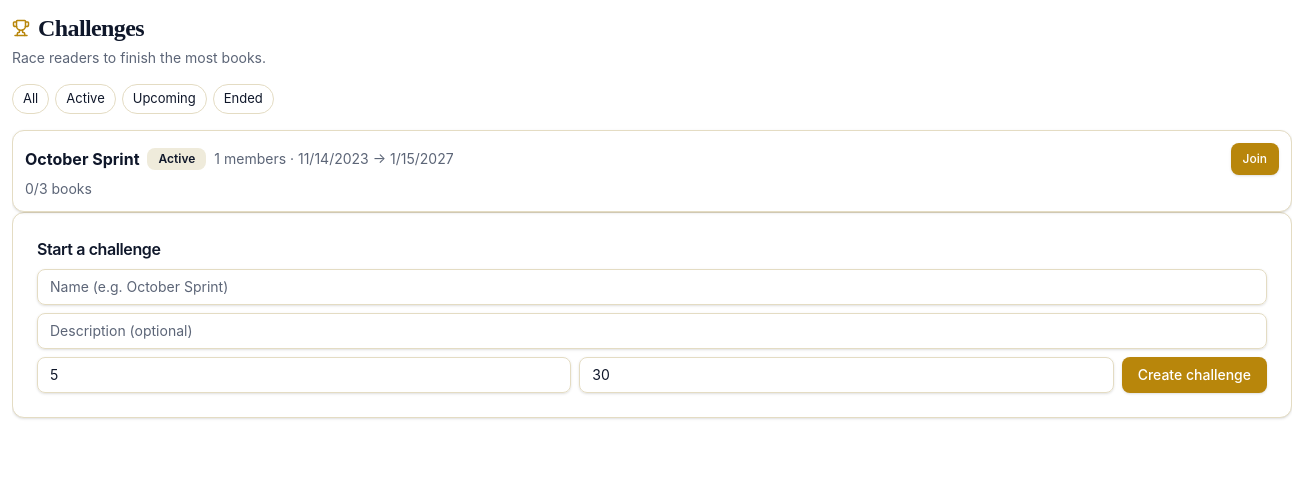
challenges view › lists, expands leaderboard, and joins
The width and height of the screenshot is (1292, 488).
expect the text "1 members · 11/14/2023 → 1/15/2027" is shown: met, box 214,148 -> 454,168
Click the button "October Sprint".
click(82, 158)  # box 25,146 -> 140,170
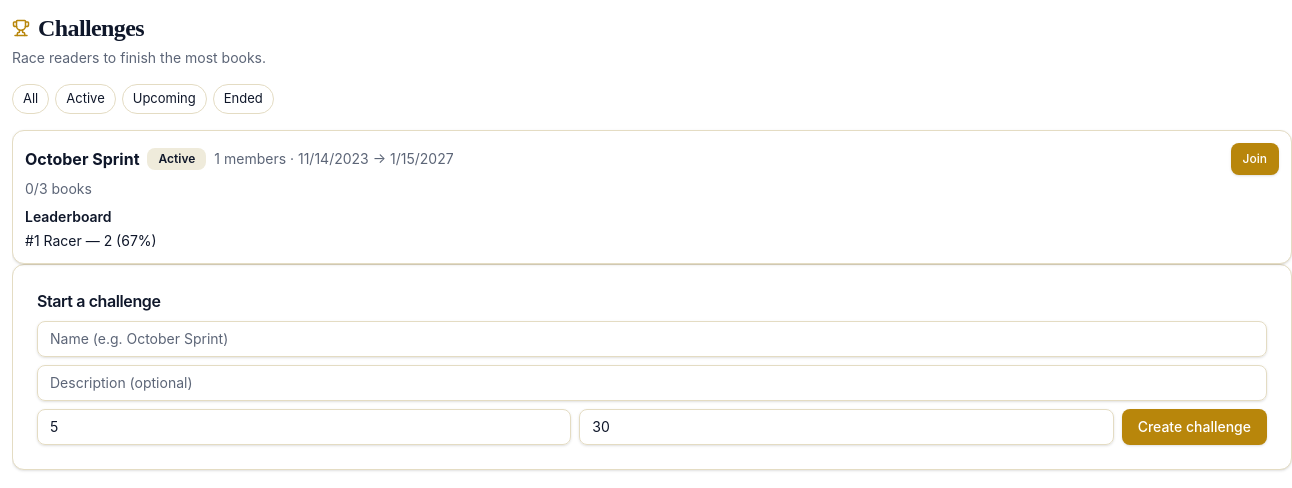
expect the list item "#1 Racer — 2 (67%)" is shown: met, box 25,232 -> 157,248
Click the button "Join".
click(1255, 158)  # box 1231,142 -> 1279,174
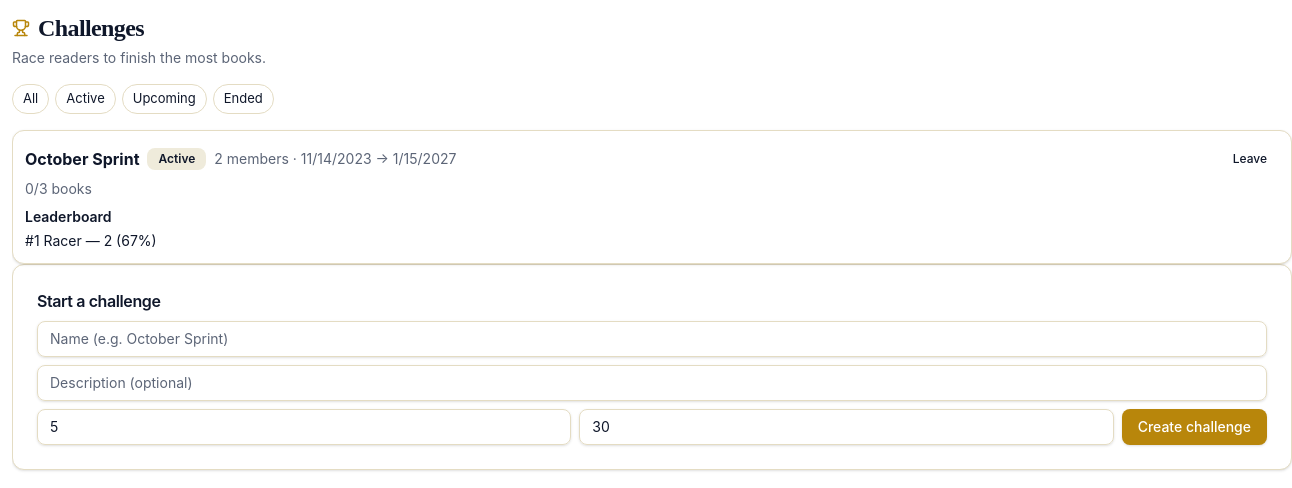
expect the button "Leave" is shown: met, box 1221,142 -> 1279,174
